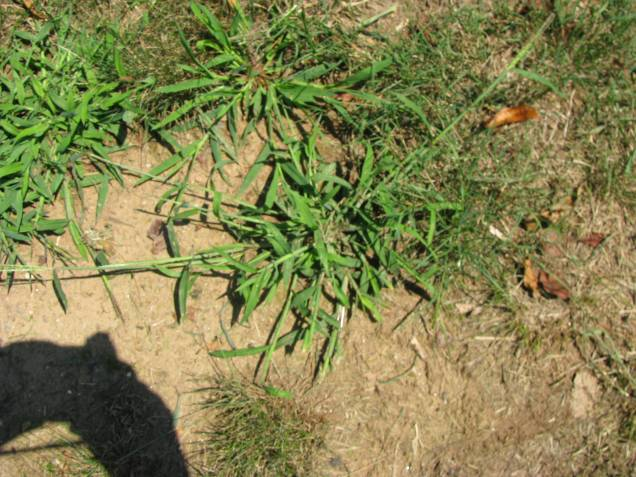crabgrass: (234, 131, 471, 341), (2, 30, 122, 265), (177, 23, 350, 125)
